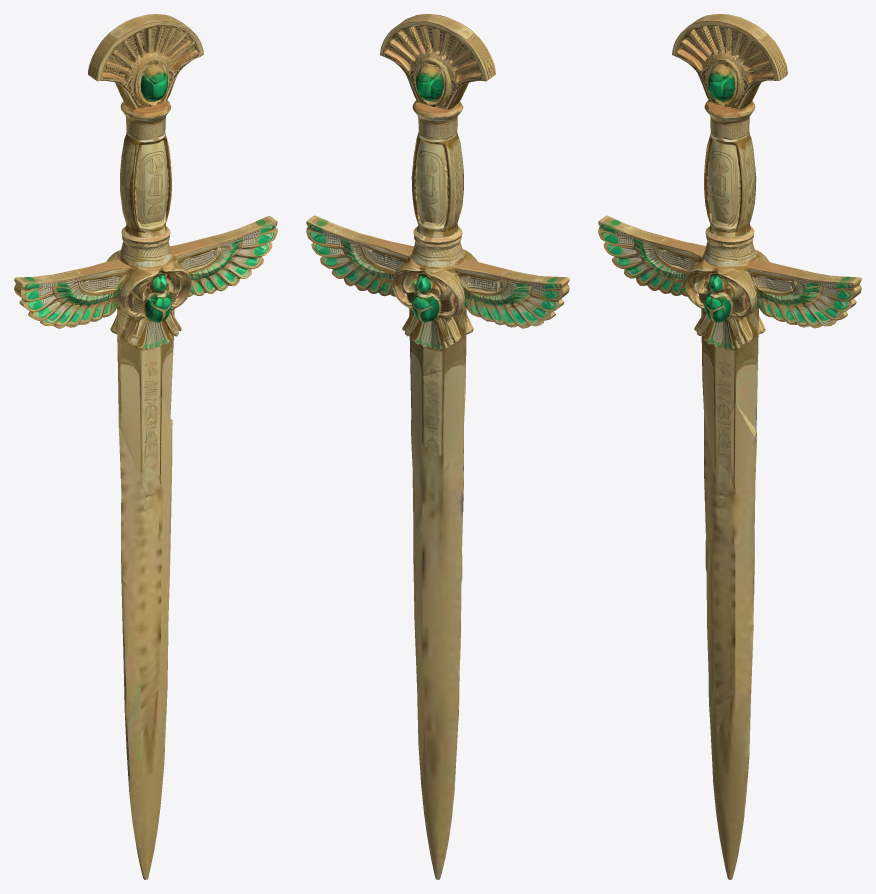
File: etsword3d.glb
3 renders of one model, left to right at view 1: azimuth 30°, elevation 25°; view 2: azimuth 150°, elevation 25°; view 3: azimuth 330°, elevation 25°, orthographic.
Size of the model in its own units: 0.5939 by 1.9 by 0.1531.
Materials: 1 (1 with a texture image).
